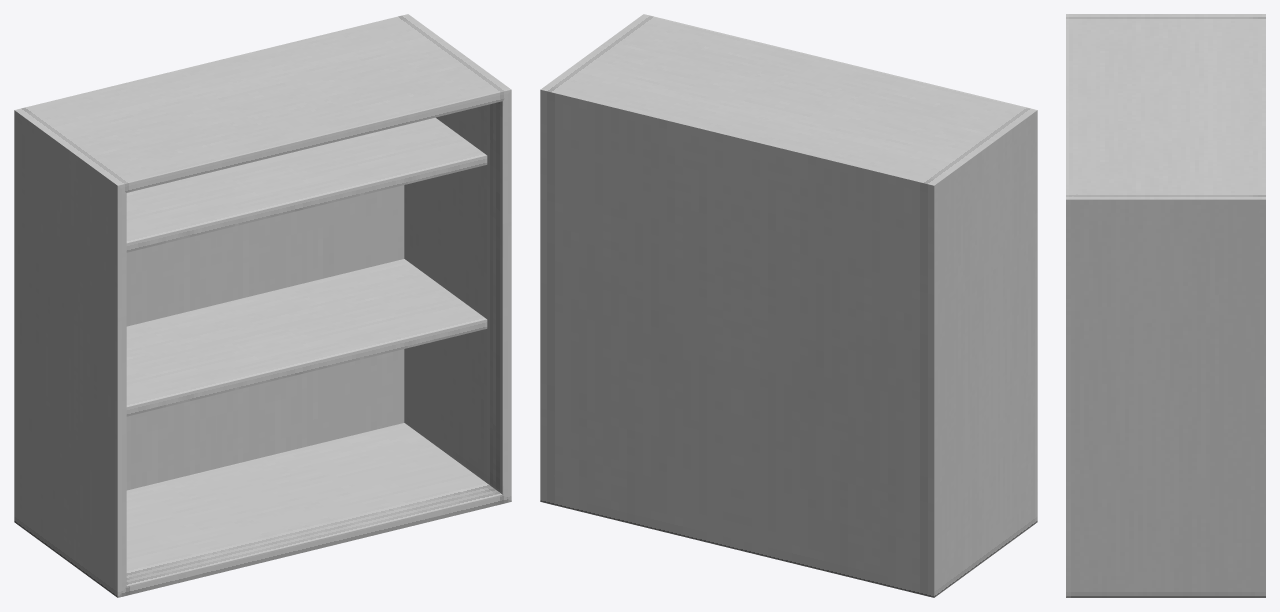
File: Cabinet.glb
3 views of the same model, side by side, from view 1: azimuth 30°, elevation 25°; view 2: azimuth 150°, elevation 25°; view 3: azimuth 270°, elevation 25° (orthographic). The views are drawn at different scales.
Visible parts, largest first — view 1: cabinet; view 2: cabinet; view 3: cabinet.
Boxes of the visible parts, box(x1,y1,x2,y2) form: cabinet: box(14, 14, 511, 597); cabinet: box(540, 14, 1037, 597); cabinet: box(1066, 14, 1265, 597).
Bounding box in the file's own units: 0.88 × 0.88 × 0.4.
Materials: 1 (1 with a texture image).
